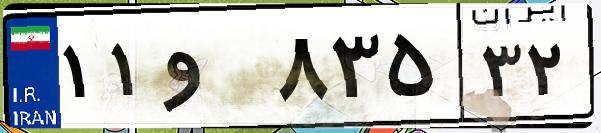1: (57, 26, 110, 100), (110, 28, 158, 98)
2: (525, 38, 570, 115)
3: (330, 28, 385, 110), (475, 38, 525, 113)
5: (385, 28, 445, 110)
8: (270, 28, 330, 110)
و: (158, 20, 270, 120)
